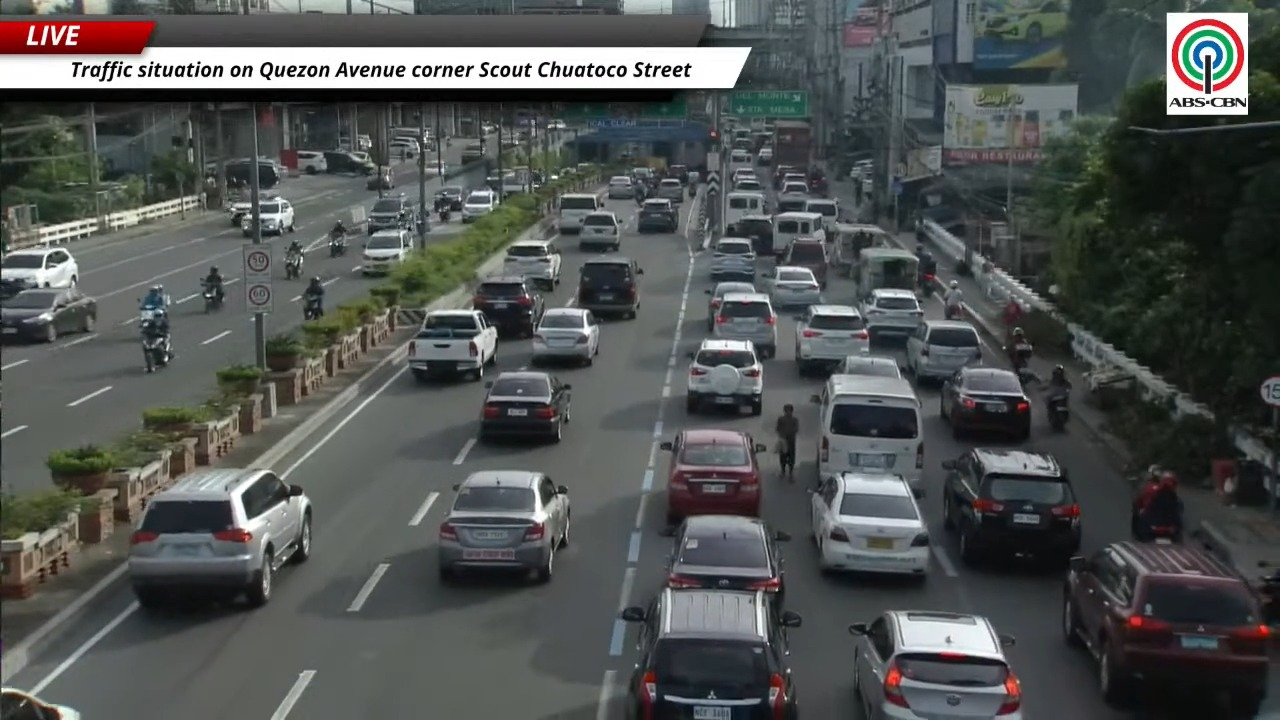car: (1062, 541, 1272, 717), (127, 468, 312, 609), (620, 588, 800, 719), (849, 610, 1022, 719), (941, 448, 1080, 564), (438, 470, 570, 582), (811, 472, 929, 579), (667, 515, 789, 608), (660, 428, 766, 525), (940, 367, 1031, 441), (479, 372, 570, 441), (686, 339, 763, 415), (0, 287, 97, 342), (795, 304, 868, 374), (906, 319, 981, 381), (472, 274, 544, 336), (575, 256, 643, 318), (712, 293, 776, 358), (982, 0, 1067, 45), (531, 308, 599, 364), (861, 289, 923, 340), (0, 247, 77, 288), (503, 239, 561, 289), (0, 687, 81, 719), (778, 238, 829, 288), (360, 228, 413, 275), (705, 282, 756, 330), (765, 266, 822, 307), (710, 237, 756, 282), (731, 214, 776, 256), (367, 194, 413, 235), (835, 351, 901, 377), (579, 212, 621, 251), (637, 198, 678, 232), (323, 150, 375, 174), (462, 191, 498, 222), (434, 186, 465, 211), (226, 199, 252, 227), (655, 178, 683, 203), (297, 150, 326, 174), (389, 137, 421, 158), (779, 169, 807, 193), (366, 166, 394, 190), (606, 175, 635, 198), (772, 164, 797, 189), (460, 141, 485, 164), (731, 167, 757, 183), (733, 177, 762, 191), (779, 181, 808, 195), (629, 167, 654, 183), (668, 164, 687, 184), (729, 149, 751, 164), (756, 147, 773, 166), (546, 120, 566, 130)
motorcycle: (1131, 499, 1184, 542), (1131, 514, 1182, 543), (1256, 560, 1279, 624), (142, 327, 171, 372), (1004, 342, 1034, 385), (1046, 389, 1070, 432), (1006, 341, 1033, 370), (202, 282, 224, 312), (304, 295, 323, 320), (285, 253, 302, 278), (329, 233, 346, 257), (920, 273, 934, 297), (944, 304, 962, 319), (438, 207, 450, 223), (687, 183, 697, 197)
truck: (407, 310, 498, 381), (773, 120, 812, 168)
